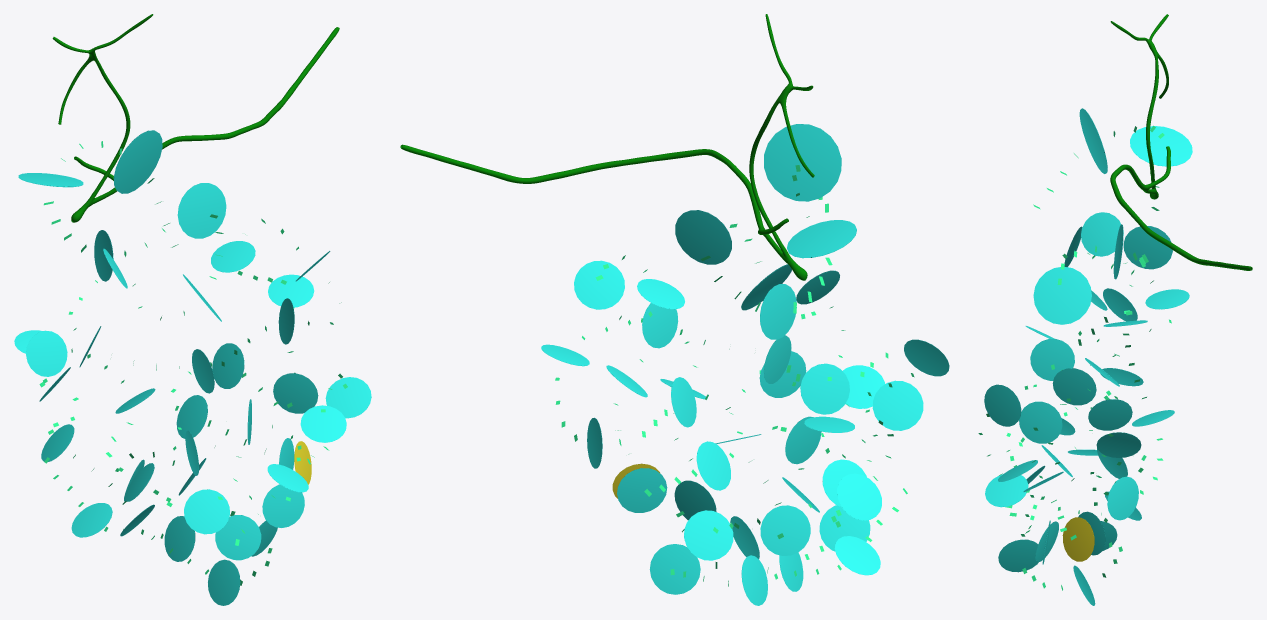
File: 3d-vh-f-small-intestine-landmark.glb
3 renders of one model, left to right at view 1: azimuth 30°, elevation 25°; view 2: azimuth 150°, elevation 25°; view 3: azimuth 270°, elevation 25°, orthographic. The views are drawn at different scales.
Visible parts, largest first — view 1: VH_F_small_intestine_landmark_biliary_tree, VH_F_small_intestine_disc_at_020_cm, VH_F_small_intestine_disc_at_005_cm, VH_F_small_intestine_landmark_cm_markers, VH_F_small_intestine_disc_at_120_cm, VH_F_small_intestine_disc_at_100_cm, VH_F_small_intestine_disc_at_145_cm, VH_F_small_intestine_disc_at_065_cm, VH_F_small_intestine_disc_at_085_cm, VH_F_small_intestine_disc_at_095_cm, VH_F_small_intestine_disc_at_090_cm, VH_F_small_intestine_disc_at_170_cm (+14 smaller); view 2: VH_F_small_intestine_landmark_biliary_tree, VH_F_small_intestine_disc_at_005_cm, VH_F_small_intestine_disc_at_020_cm, VH_F_small_intestine_landmark_cm_markers, VH_F_small_intestine_disc_at_130_cm, VH_F_small_intestine_disc_at_155_cm, VH_F_small_intestine_disc_at_035_cm, VH_F_small_intestine_disc_at_175_cm, VH_F_small_intestine_disc_at_125_cm, VH_F_small_intestine_disc_at_050_cm, VH_F__small_intestine_disc_at_010_cm, VH_F_small_intestine_disc_at_080_cm (+19 smaller); view 3: VH_F_small_intestine_landmark_biliary_tree, VH_F_small_intestine_disc_at_025_cm, VH_F__small_intestine_disc_at_010_cm, VH_F_small_intestine_landmark_cm_markers, VH_F_small_intestine_disc_at_115_cm, VH_F_small_intestine_disc_at_015_cm, VH_F_small_intestine_disc_at_030_cm, VH_F_small_intestine_disc_at_040_cm, VH_F_small_intestine_disc_at_045_cm, VH_F_small_intestine_disc_at_110_cm, VH_F_small_intestine_landmark_jejunoileal_junction, VH_F_small_intestine_disc_at_070_cm (+12 smaller).
Boxes of the visible parts, box(x1,y1,x2,y2) form: VH_F_small_intestine_landmark_biliary_tree: box(52, 14, 339, 222); VH_F_small_intestine_disc_at_020_cm: box(177, 183, 226, 238); VH_F_small_intestine_disc_at_005_cm: box(113, 130, 162, 193); VH_F_small_intestine_landmark_cm_markers: box(39, 141, 347, 585); VH_F_small_intestine_disc_at_120_cm: box(184, 489, 229, 534); VH_F_small_intestine_disc_at_100_cm: box(215, 515, 261, 560); VH_F_small_intestine_disc_at_145_cm: box(26, 330, 67, 376); VH_F_small_intestine_disc_at_065_cm: box(273, 373, 318, 413); VH_F_small_intestine_disc_at_085_cm: box(325, 377, 371, 418); VH_F_small_intestine_disc_at_095_cm: box(262, 484, 304, 527); VH_F_small_intestine_disc_at_090_cm: box(300, 405, 346, 442); VH_F_small_intestine_disc_at_170_cm: box(208, 559, 240, 605); VH_F_small_intestine_landmark_biliary_tree: box(400, 14, 814, 280); VH_F_small_intestine_disc_at_005_cm: box(764, 124, 841, 201); VH_F_small_intestine_disc_at_020_cm: box(675, 210, 731, 264); VH_F_small_intestine_landmark_cm_markers: box(555, 165, 914, 586); VH_F_small_intestine_disc_at_130_cm: box(760, 505, 810, 555); VH_F_small_intestine_disc_at_155_cm: box(872, 380, 923, 430); VH_F_small_intestine_disc_at_035_cm: box(800, 363, 849, 414); VH_F_small_intestine_disc_at_175_cm: box(649, 544, 700, 594); VH_F_small_intestine_disc_at_125_cm: box(684, 510, 733, 560); VH_F_small_intestine_disc_at_050_cm: box(574, 260, 624, 309); VH_F__small_intestine_disc_at_010_cm: box(787, 220, 856, 258); VH_F_small_intestine_disc_at_080_cm: box(617, 468, 667, 512); VH_F_small_intestine_landmark_biliary_tree: box(1110, 14, 1252, 270); VH_F_small_intestine_disc_at_025_cm: box(1033, 267, 1091, 324); VH_F__small_intestine_disc_at_010_cm: box(1130, 126, 1192, 166); VH_F_small_intestine_landmark_cm_markers: box(978, 125, 1171, 590); VH_F_small_intestine_disc_at_115_cm: box(1019, 401, 1062, 443); VH_F_small_intestine_disc_at_015_cm: box(1123, 226, 1172, 269); VH_F_small_intestine_disc_at_030_cm: box(1081, 212, 1120, 256); VH_F_small_intestine_disc_at_040_cm: box(1030, 339, 1074, 380); VH_F_small_intestine_disc_at_045_cm: box(1052, 368, 1096, 405); VH_F_small_intestine_disc_at_110_cm: box(984, 384, 1021, 426); VH_F_small_intestine_landmark_jejunoileal_junction: box(1062, 517, 1094, 561); VH_F_small_intestine_disc_at_070_cm: box(1088, 399, 1132, 430).
Bounding box in the file's own units: 0.2013 × 0.2667 × 0.1224.
